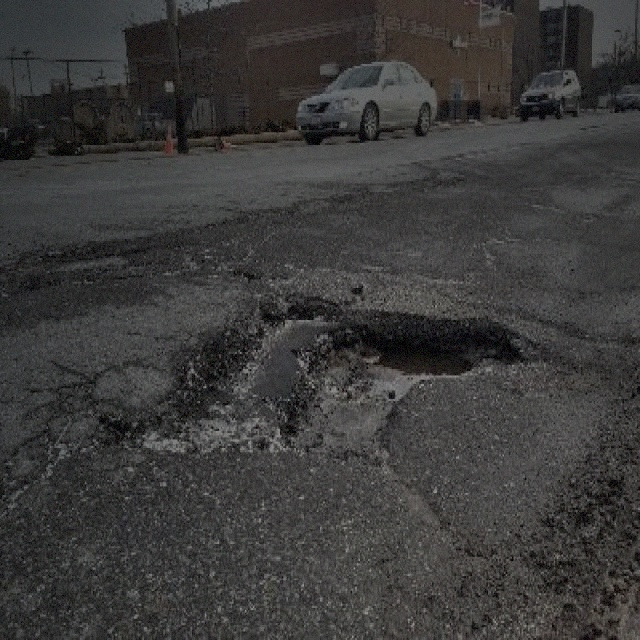pothole: (141, 292, 523, 457), (43, 243, 147, 288)
